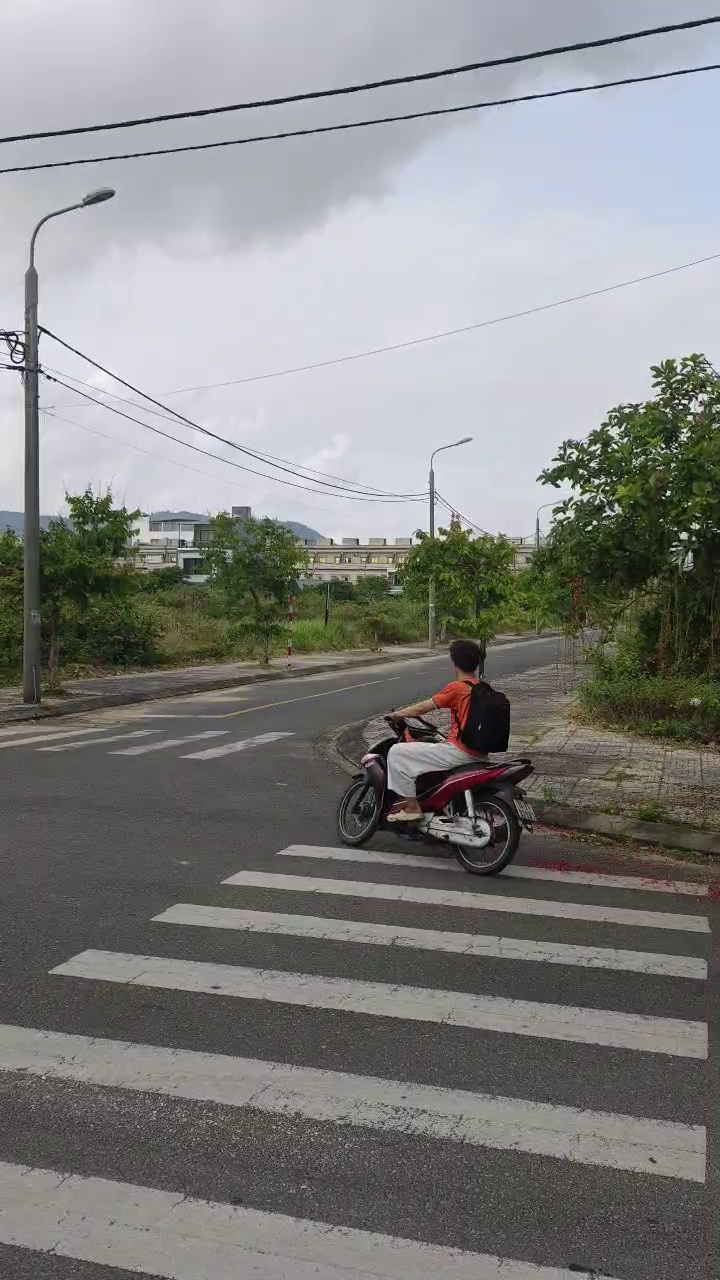no_helmet: (450, 640, 481, 691)
